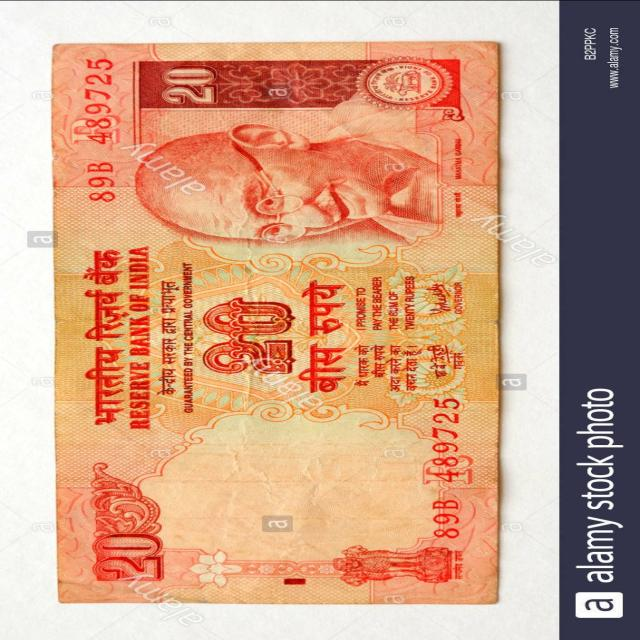20IndianRupees: (64, 40, 502, 607)
